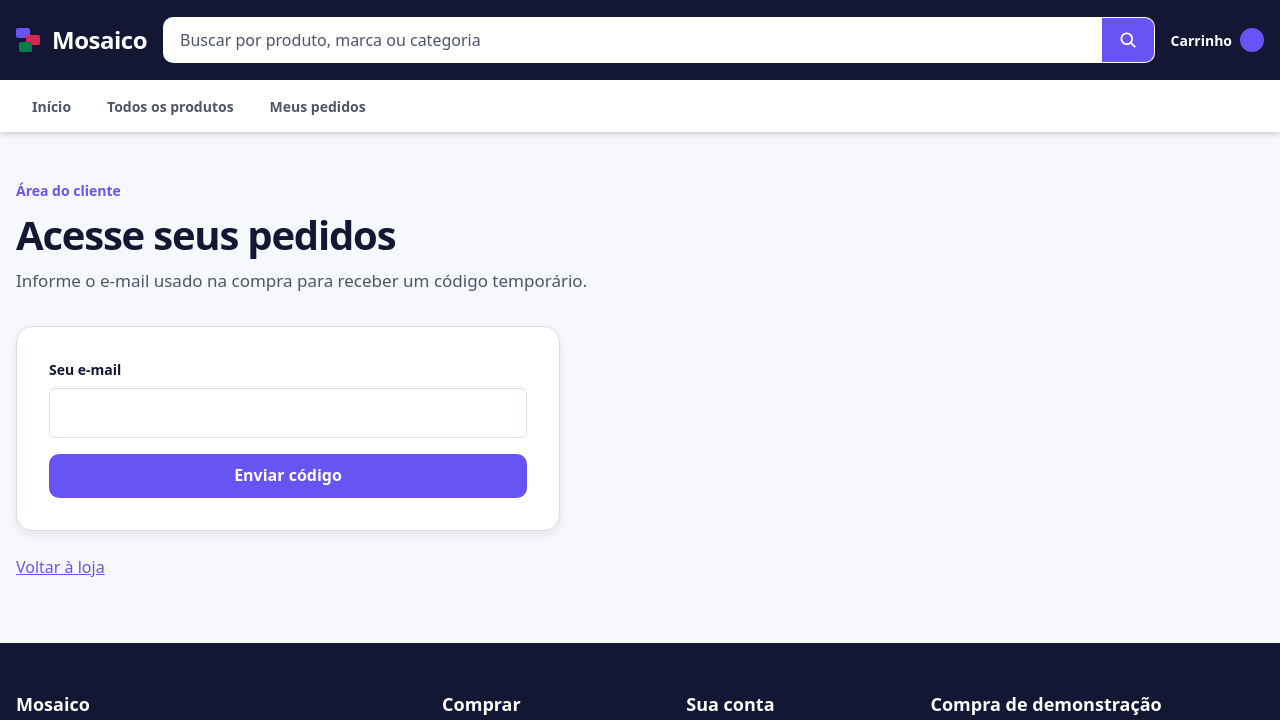
Test case: Mosaico storefront › requests a temporary code and shows only the signed-in customer orders
The image size is (1280, 720).
Type "ana@example.com" into the field labelled "Seu e-mail" at (288, 413), box left=49, top=388, right=527, bottom=438
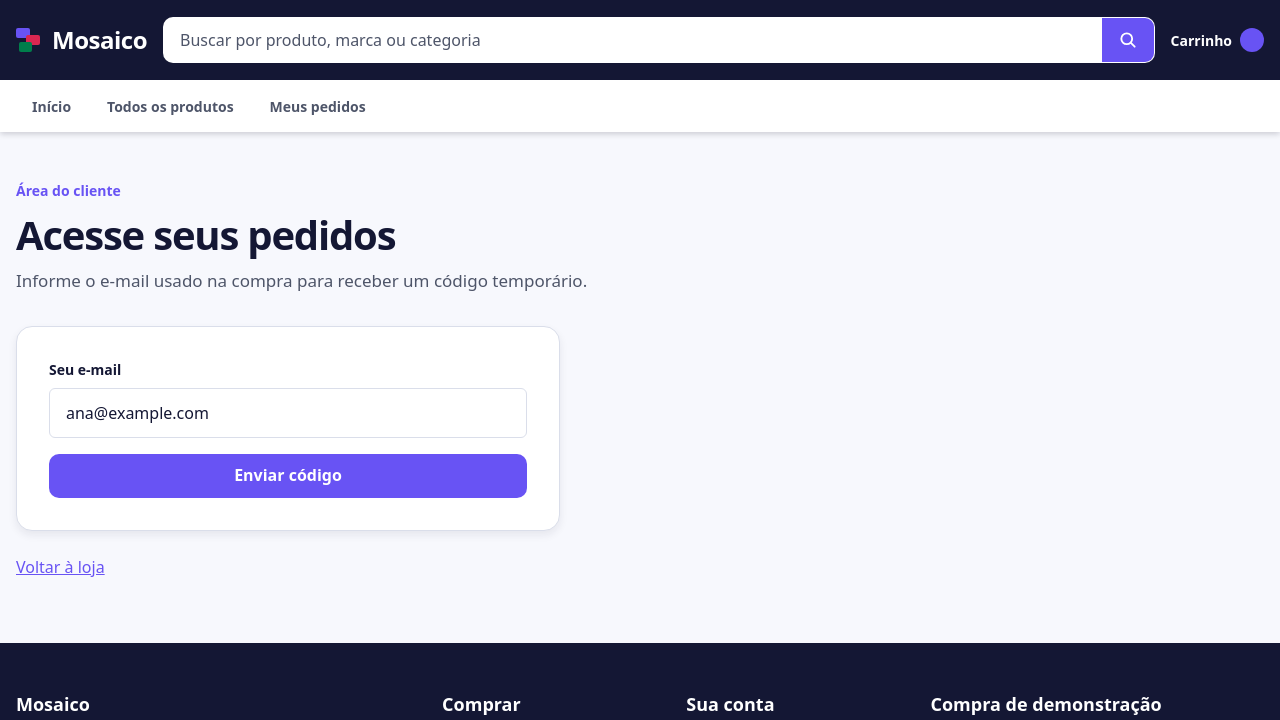
Click the button "Enviar código" at (288, 476), box left=49, top=454, right=527, bottom=498
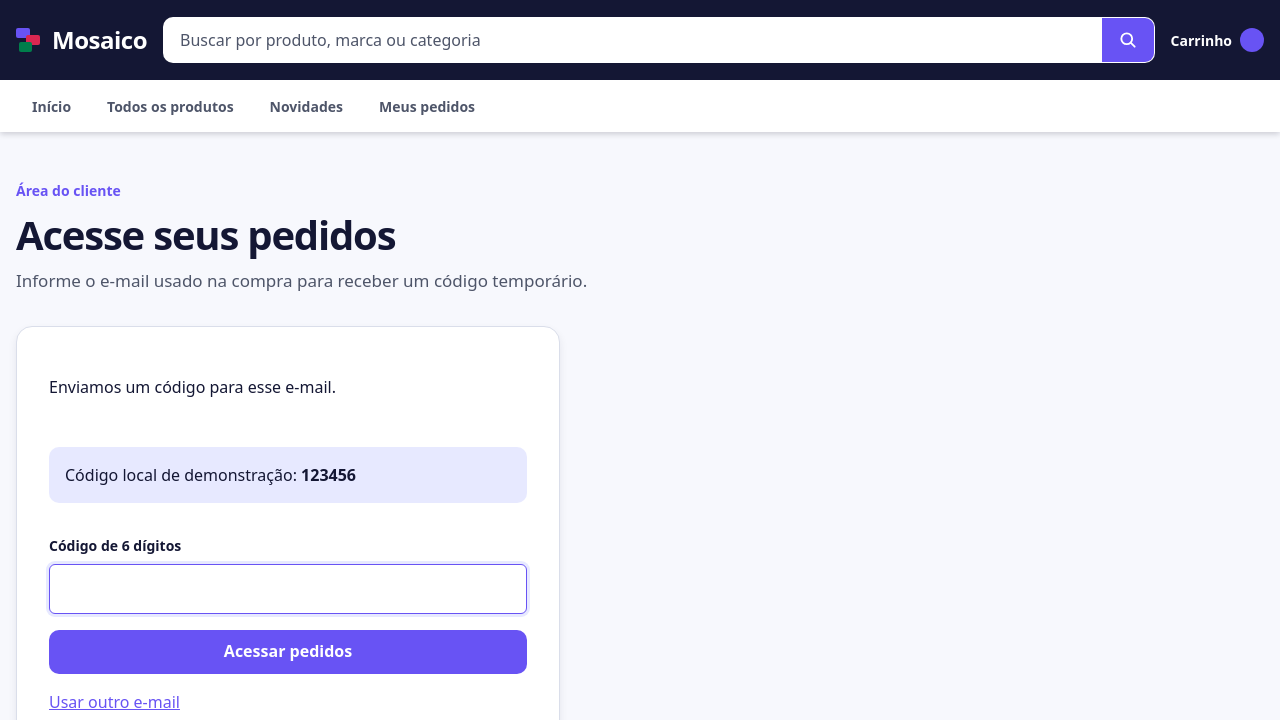
Result: the text "Código local de demonstração: 123456" is shown at left=49, top=447, right=527, bottom=503
Type "123456" into the field labelled "Código de 6 dígitos" at (288, 589), box left=49, top=564, right=527, bottom=614
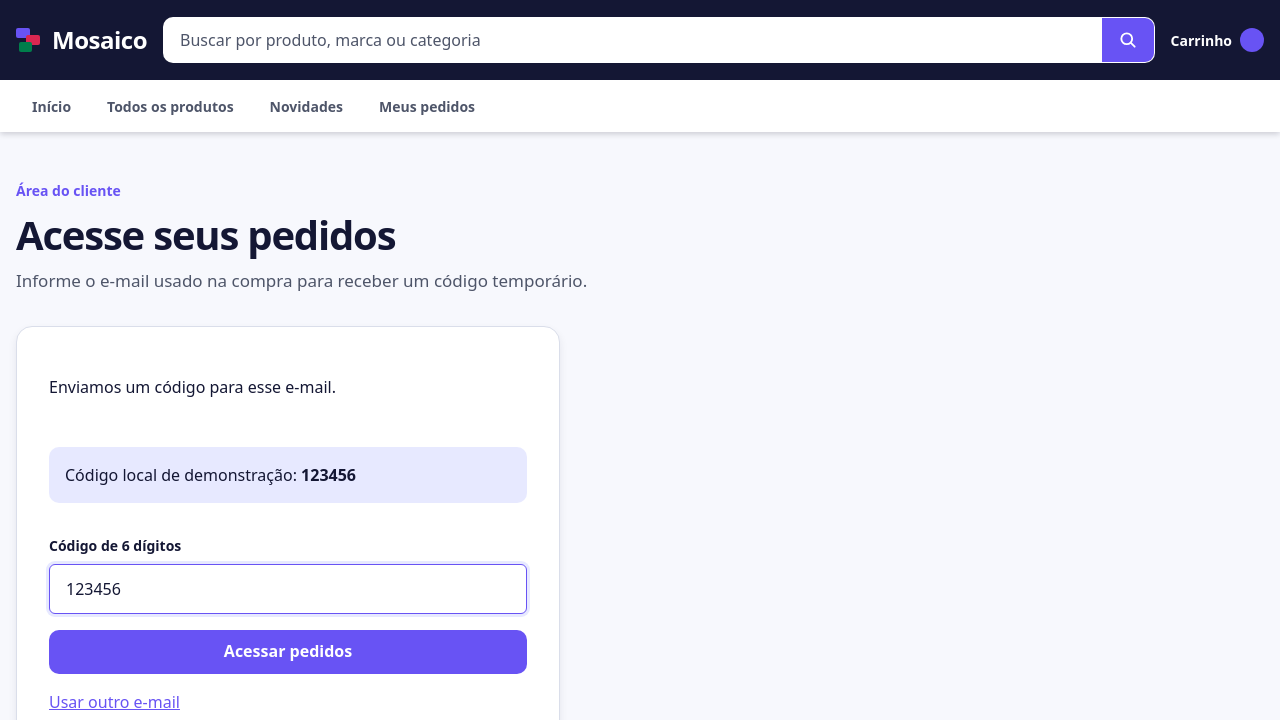
Click the button "Acessar pedidos" at (288, 652), box left=49, top=630, right=527, bottom=674
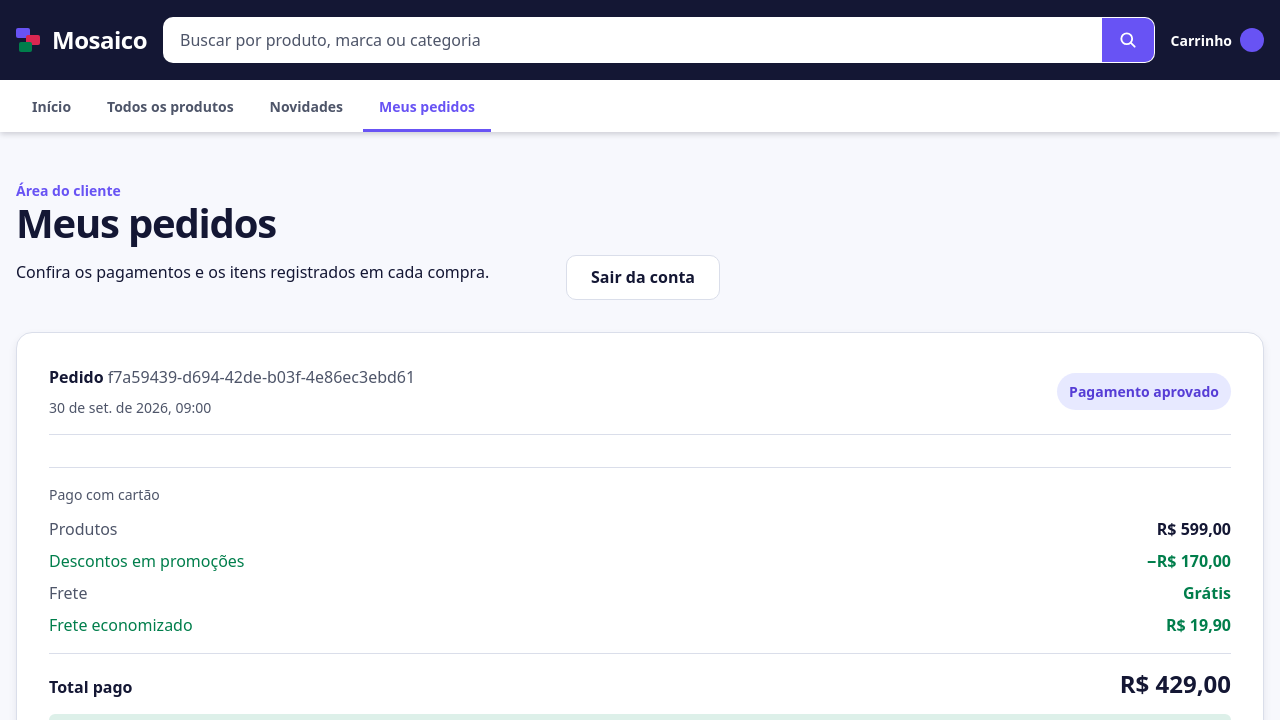
Result: the heading "Meus pedidos" is shown at left=16, top=195, right=276, bottom=250
Result: the text "f7a59439-d694-42de-b03f-4e86ec3ebd61" is shown at left=108, top=366, right=415, bottom=388
Result: the text "Pagamento aprovado" is shown at left=1057, top=373, right=1231, bottom=410
Click the button "Sair da conta" at (643, 278), box left=566, top=255, right=720, bottom=300
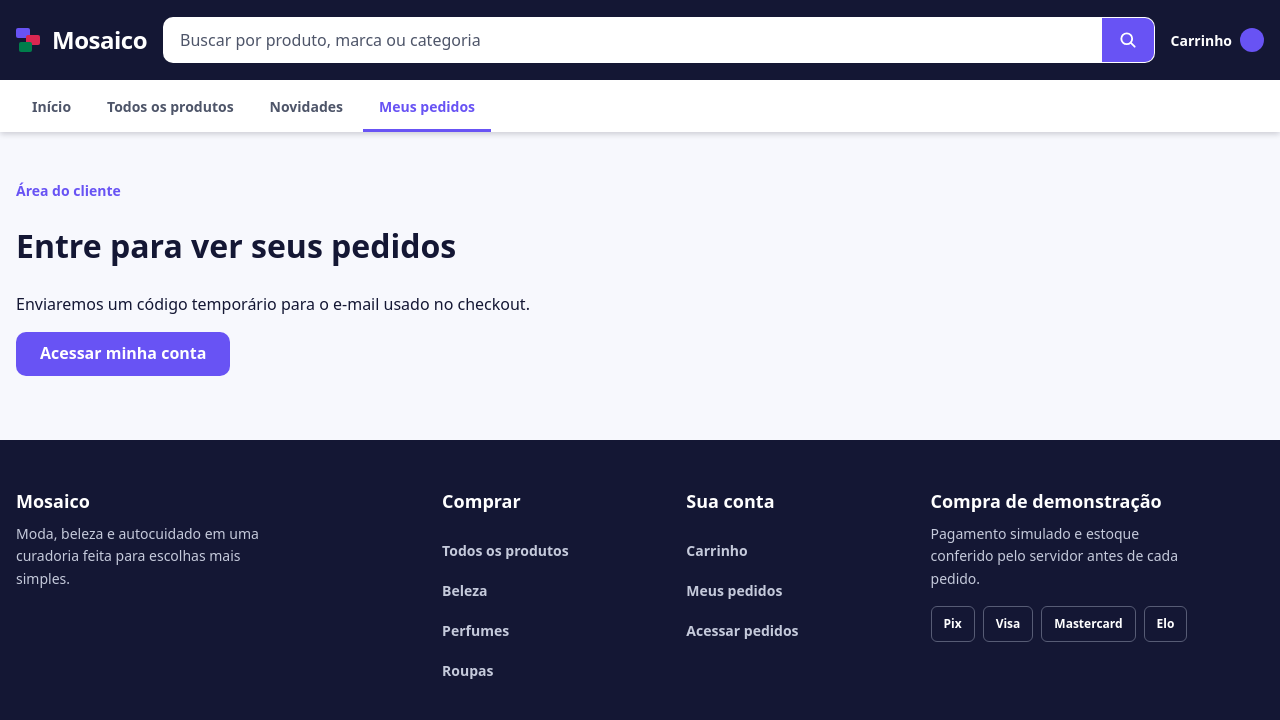
Result: the heading "Entre para ver seus pedidos" is shown at left=16, top=224, right=456, bottom=267
